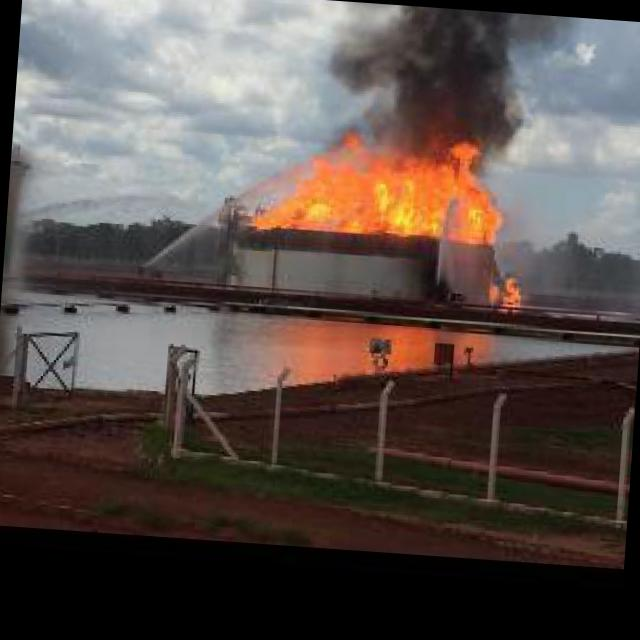fire: (254, 132, 499, 242), (483, 278, 519, 307)
smoke: (361, 3, 578, 168)
